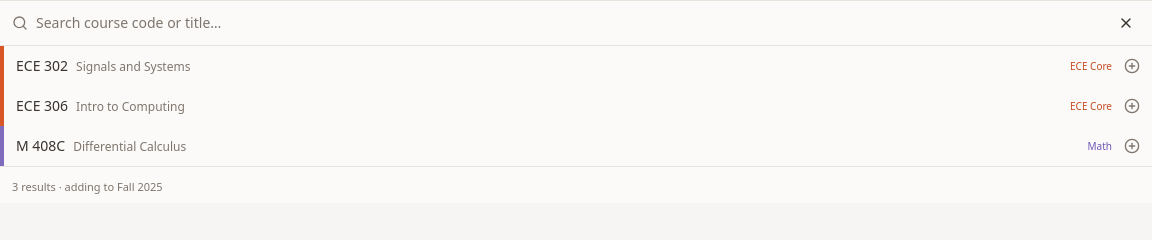
Test: CoursePickerSheet › blocks add to a past semester and shows feedback message
Press the mouse on the option "ECE 302 Signals and Systems ECE Core": (42,66) [0,46,1151,86]
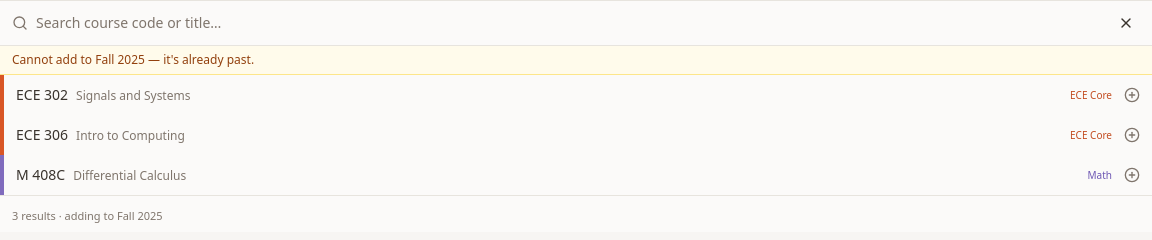
Result: the text "Cannot add to Fall 2025 — it's already past." is shown at [0,46,1151,75]
